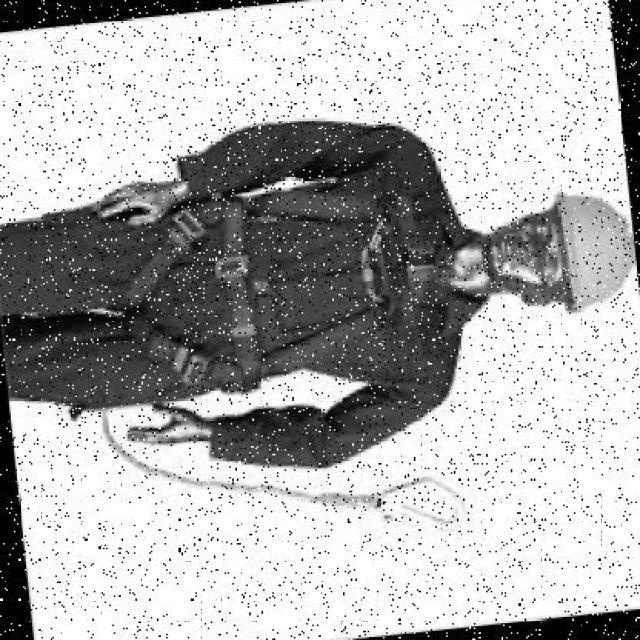Arnes_seguridad: (109, 159, 469, 408)
